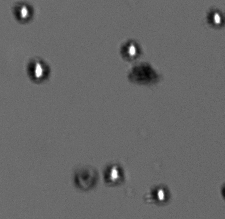Dead Cell: (73, 166, 99, 191), (128, 63, 159, 83)
Living Cell: (27, 57, 50, 83), (120, 39, 143, 61), (103, 162, 125, 184), (14, 2, 34, 22), (151, 183, 170, 204), (207, 6, 223, 28)
